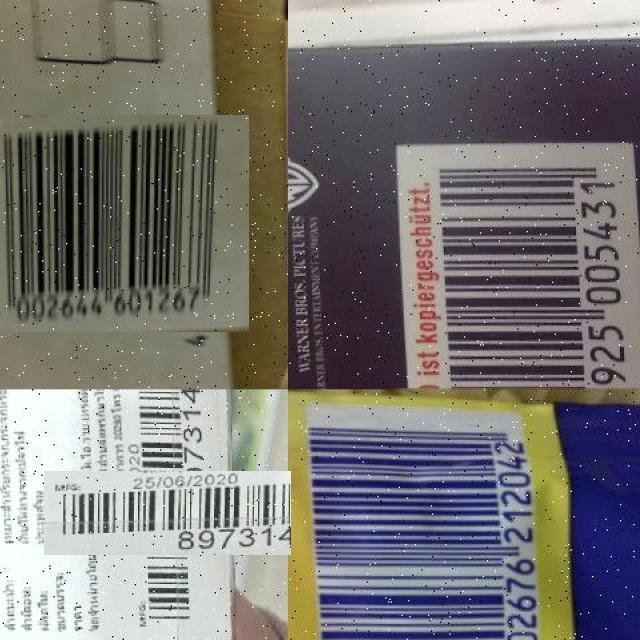Barcode: (393, 138, 640, 390), (0, 99, 233, 348), (303, 409, 540, 640), (84, 430, 250, 596)
